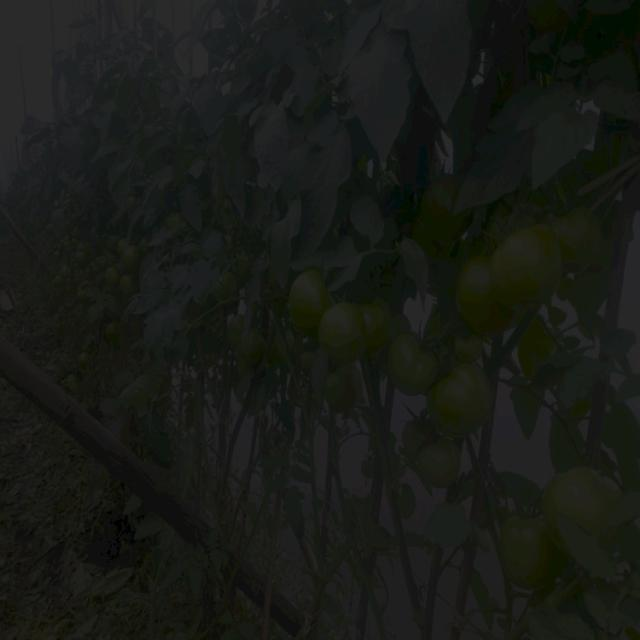tomato: (496, 227, 558, 311), (433, 373, 496, 447), (503, 511, 555, 592), (458, 259, 510, 335), (549, 466, 616, 523), (557, 206, 600, 274), (318, 302, 370, 357), (389, 331, 431, 395), (290, 275, 336, 326), (419, 169, 460, 219), (424, 435, 462, 485), (327, 359, 362, 413), (449, 330, 490, 374), (365, 301, 405, 341), (237, 330, 267, 359), (215, 279, 239, 311), (162, 214, 192, 238), (399, 486, 419, 516), (126, 243, 145, 271), (61, 370, 80, 398), (119, 270, 138, 294), (75, 243, 92, 264), (71, 353, 88, 369), (107, 266, 121, 284), (59, 263, 74, 277), (102, 320, 110, 336)
